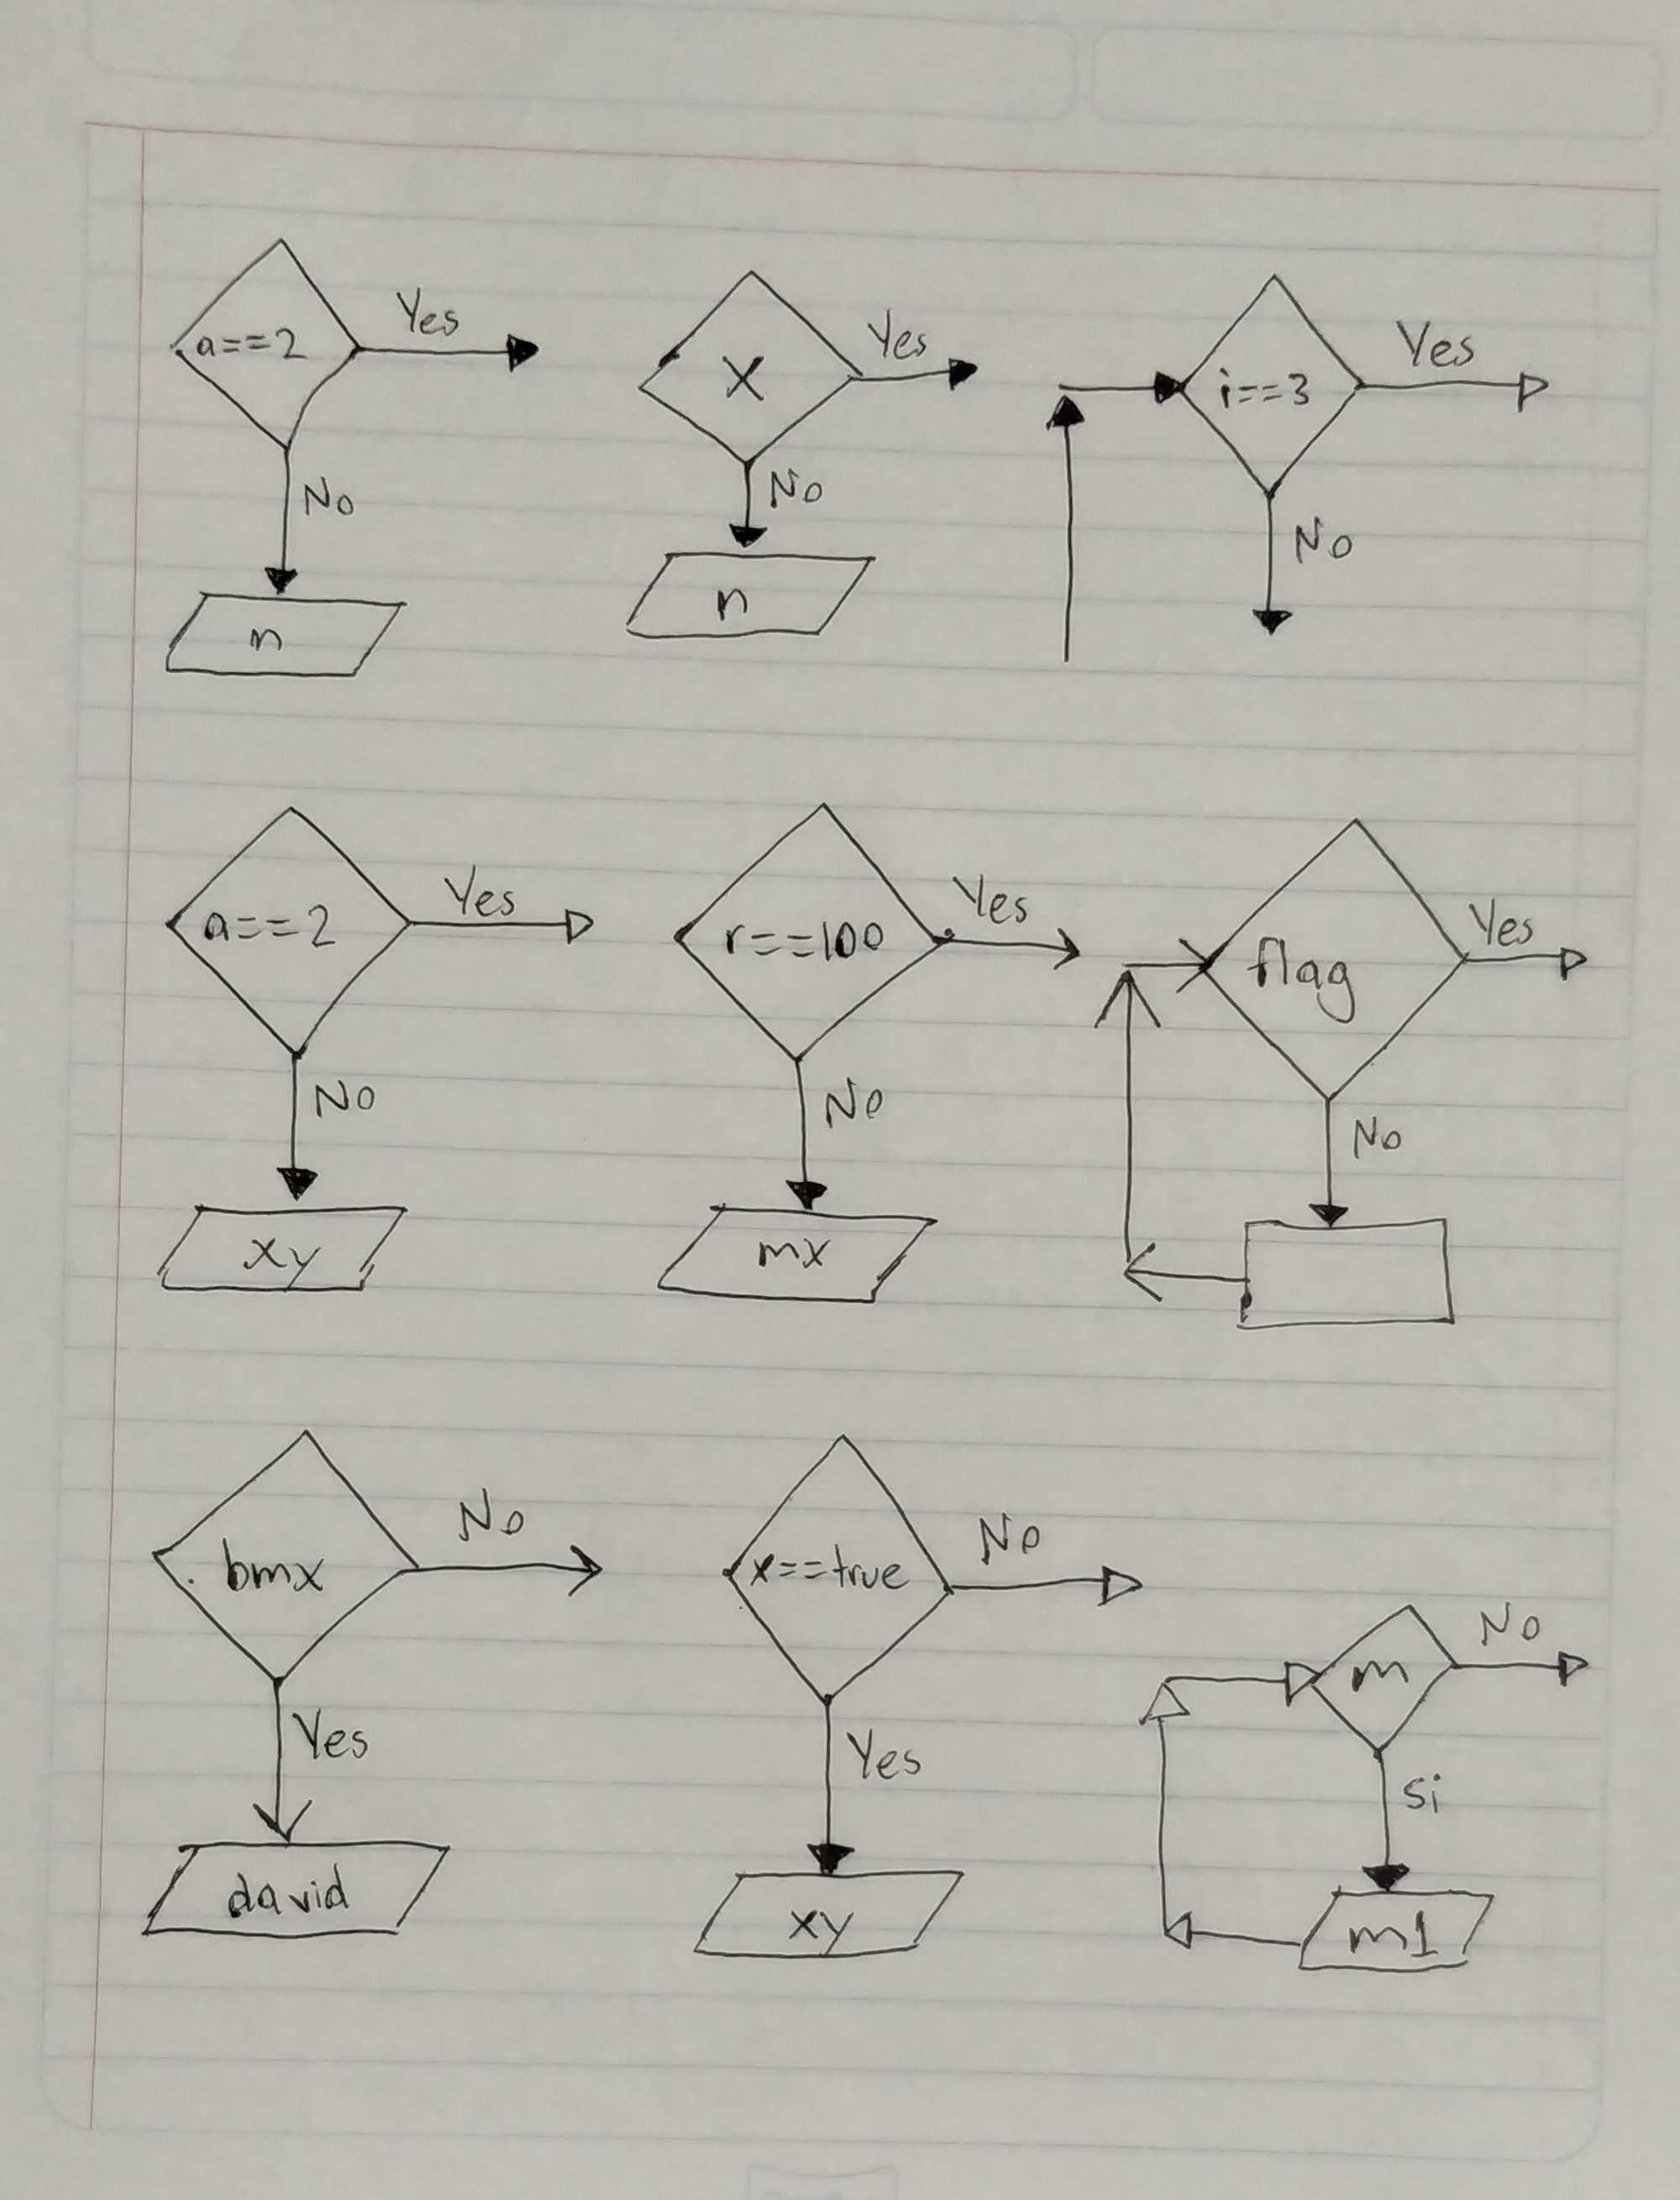arrow_line_down: (245, 1676, 316, 1847), (801, 1695, 863, 1882), (1242, 490, 1306, 649), (780, 1053, 836, 1214), (1357, 1743, 1415, 1898), (274, 1053, 325, 1209), (1306, 1094, 1357, 1233), (263, 448, 307, 602), (722, 457, 775, 554)
arrow_line_left: (1154, 1902, 1309, 1972), (1122, 1242, 1253, 1311)
arrow_line_right: (413, 1533, 609, 1600), (1357, 355, 1553, 416), (946, 1556, 1152, 1613), (356, 323, 545, 379), (408, 900, 600, 951), (1451, 1635, 1599, 1701), (1161, 1651, 1320, 1710), (939, 916, 1085, 976), (852, 342, 985, 402), (1463, 937, 1594, 984), (1052, 363, 1186, 409), (1121, 937, 1209, 995)
arrow_line_up: (1092, 969, 1170, 1270), (1133, 1681, 1198, 1942), (1038, 390, 1096, 669)
decision: (1200, 812, 1474, 1110), (139, 1418, 424, 1683), (667, 792, 942, 1064), (157, 799, 420, 1064), (715, 1422, 960, 1699), (630, 261, 870, 466), (164, 229, 371, 457), (1177, 263, 1376, 498), (1313, 1586, 1458, 1761)
process: (1234, 1214, 1468, 1337)
scan: (131, 1830, 459, 1949), (651, 1196, 942, 1314), (685, 1861, 979, 1972), (619, 542, 888, 651), (157, 587, 425, 695), (150, 1200, 427, 1302), (1290, 1884, 1521, 1987)
